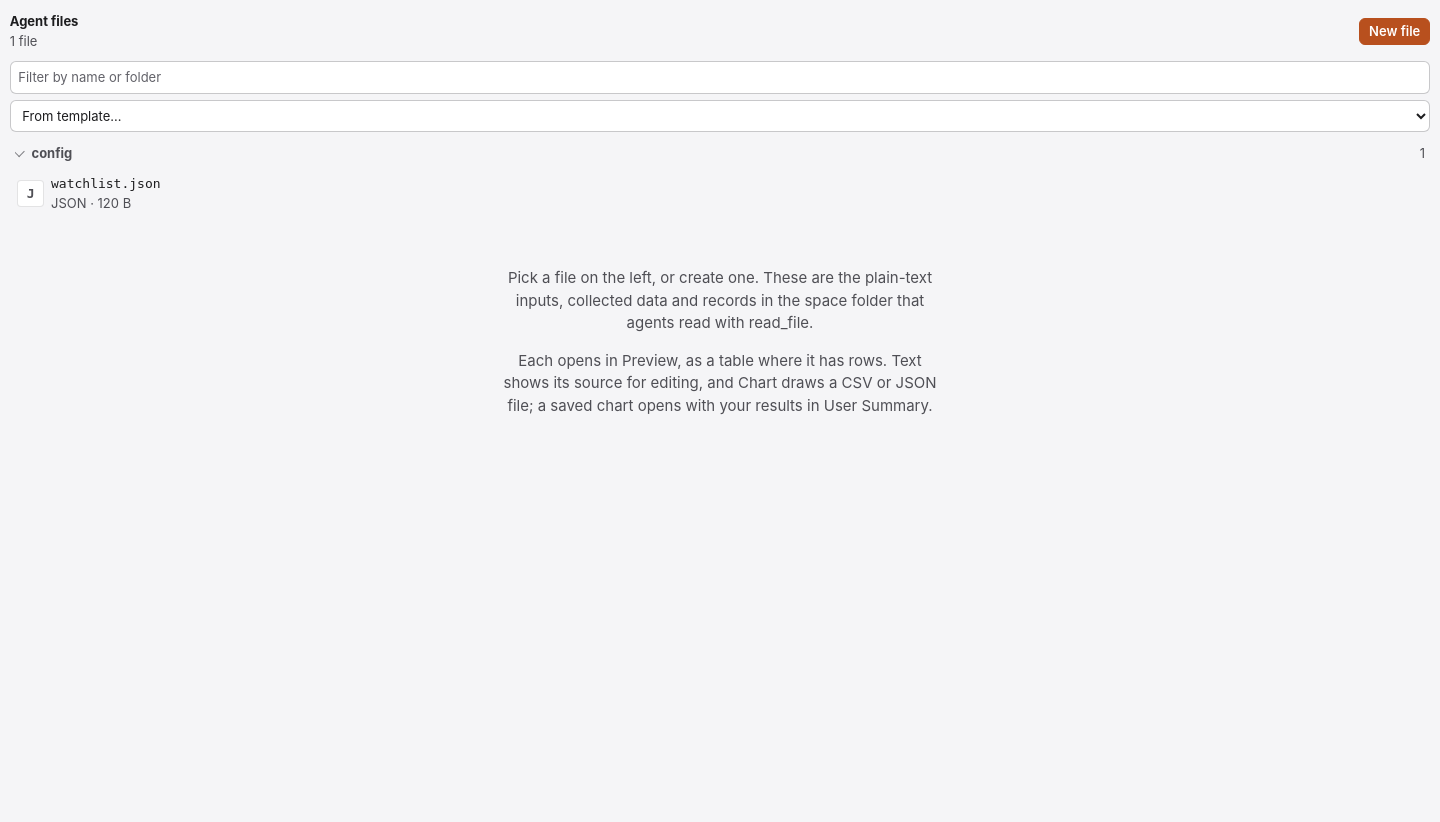
Test: when a file action fails › offers Try again for a file that would not open, and nothing that could save over it
Click the button with aria-label "config/watchlist.json". click: (106, 183)
box: [10, 167, 1430, 220]
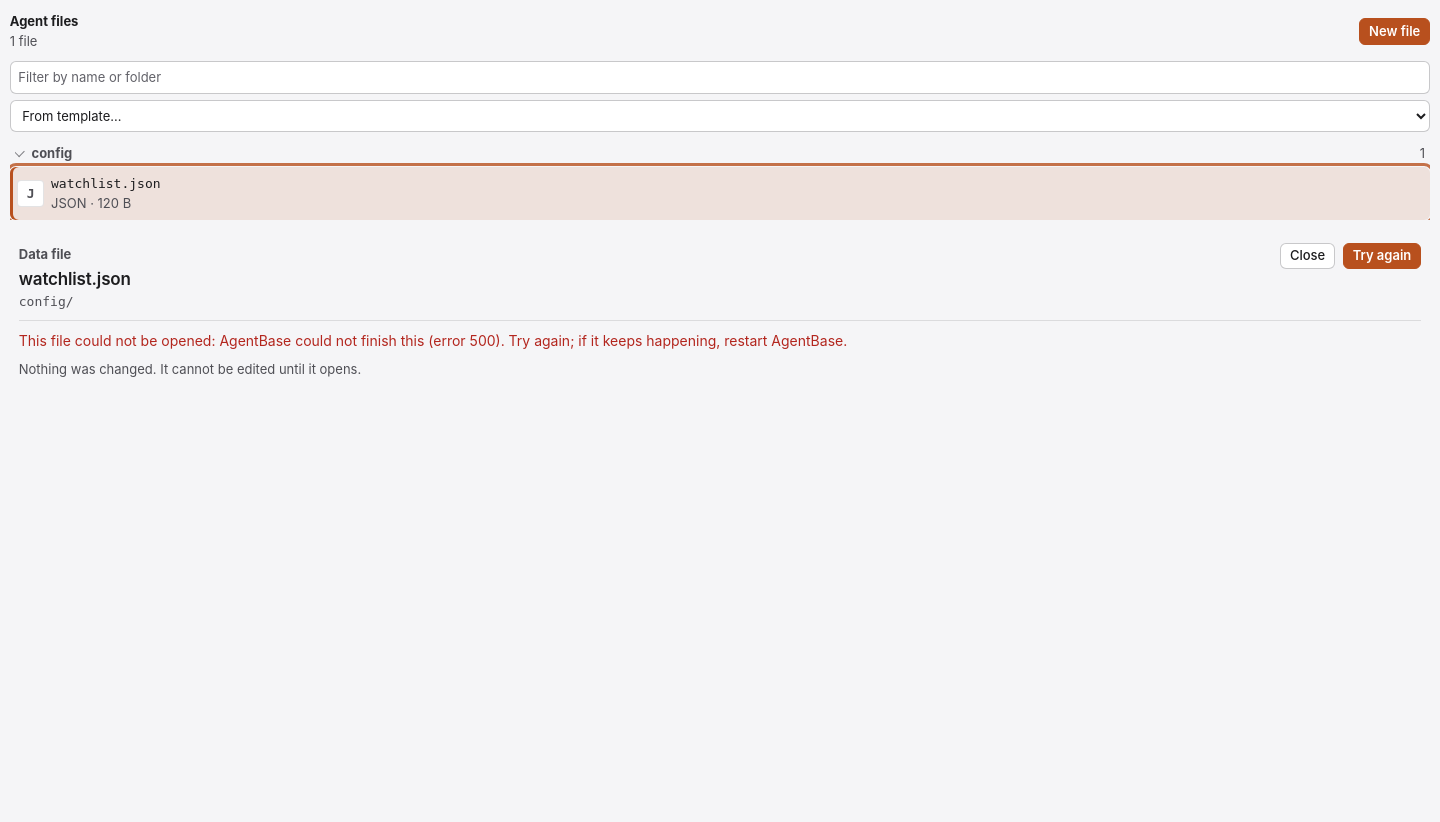
expect the button "Save file" is not shown: met
expect the message shows "This file could not be opened: AgentBase could not finish this (error 500). Try again; if it keeps happening, restart AgentBase.": met, box [19, 332, 847, 349]
Click the button "Try again". click: (1382, 256)
box: [1343, 243, 1421, 269]
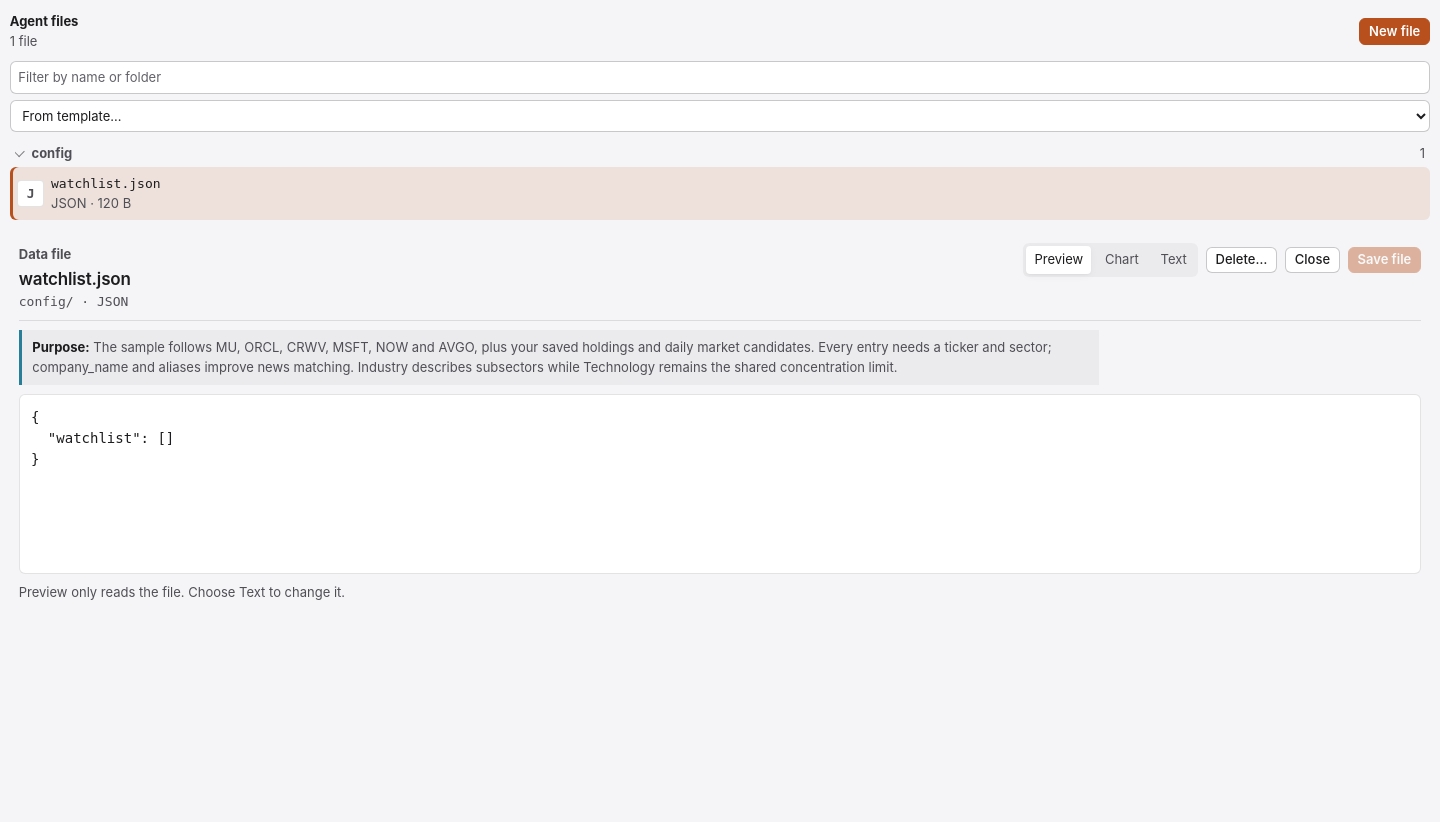
expect the element with test id "file-preview" shows "\"watchlist\": []": met, box [31, 409, 174, 467]
